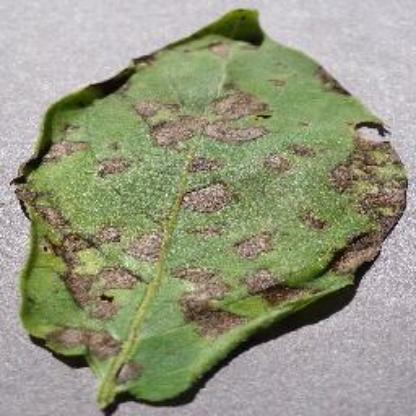Early-Blight: (12, 6, 414, 412)
